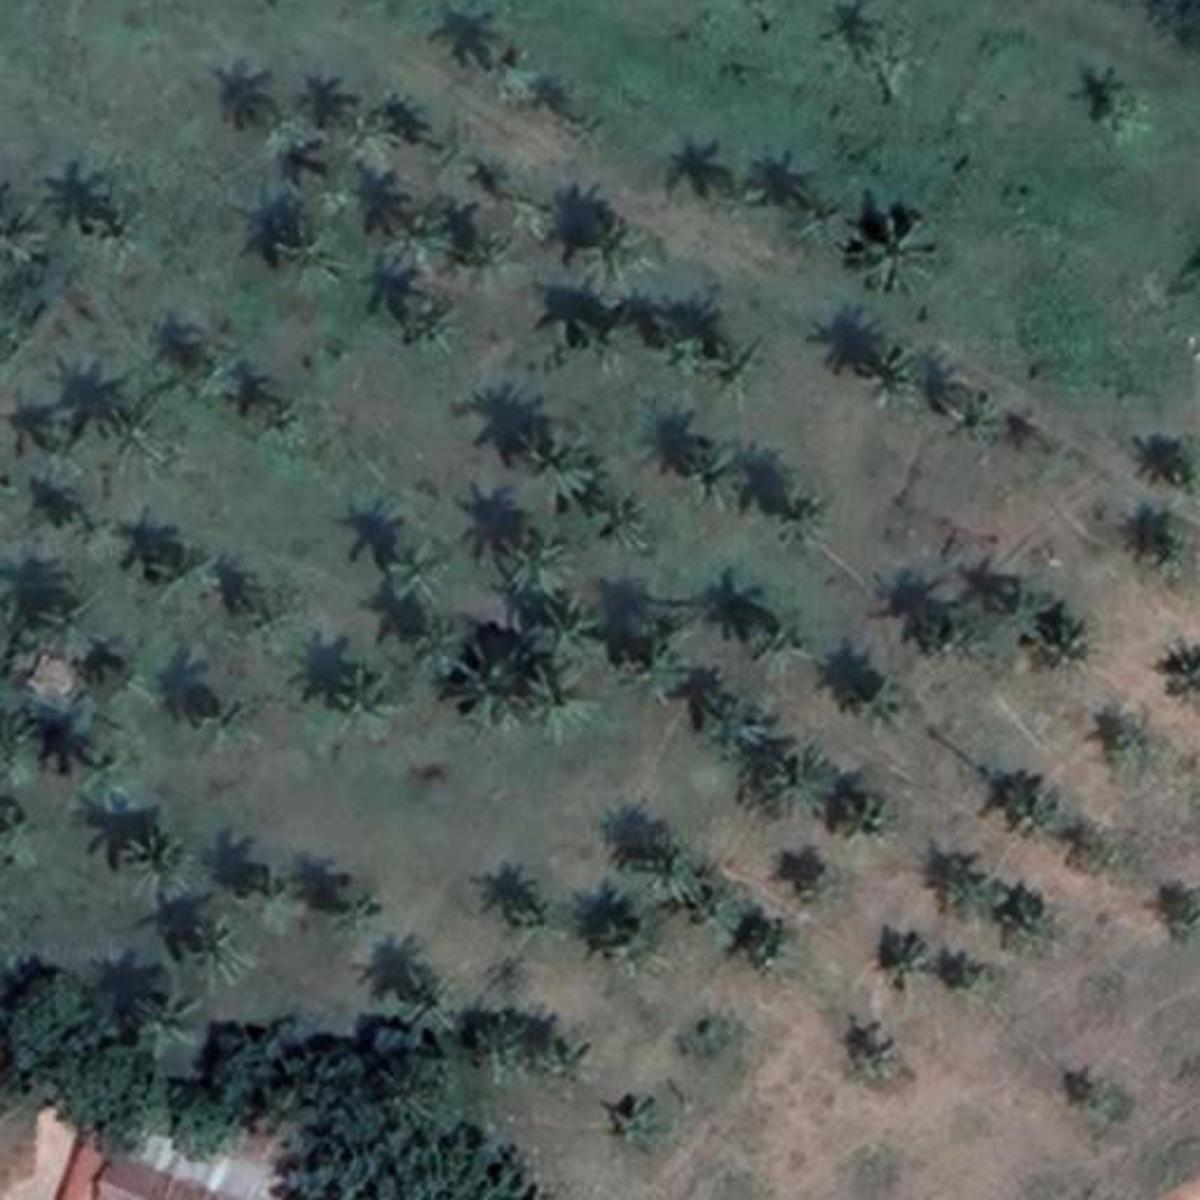coconut: (843, 205, 946, 304), (501, 419, 609, 505), (433, 632, 532, 726), (567, 205, 660, 292), (529, 578, 616, 665), (532, 653, 611, 745), (489, 529, 584, 602), (785, 178, 869, 255), (377, 205, 471, 274), (145, 555, 238, 623), (637, 834, 716, 914), (276, 205, 349, 290), (752, 749, 843, 816), (592, 902, 667, 984), (82, 195, 166, 264), (321, 673, 403, 742), (121, 832, 199, 904), (379, 538, 457, 611), (714, 327, 780, 412), (876, 909, 938, 998), (1108, 716, 1185, 787), (721, 902, 803, 965), (993, 766, 1066, 836), (192, 925, 271, 989), (32, 597, 105, 663), (595, 1089, 670, 1153), (400, 290, 468, 360), (131, 993, 210, 1054), (100, 410, 173, 475), (234, 881, 311, 942), (632, 632, 700, 700), (989, 878, 1057, 946), (682, 442, 749, 510), (447, 234, 529, 290), (745, 614, 815, 677), (185, 342, 248, 410), (778, 487, 848, 548), (949, 393, 1014, 459), (846, 1042, 921, 1099), (665, 321, 726, 389), (855, 23, 930, 79), (590, 496, 667, 549), (346, 107, 412, 166), (862, 344, 927, 403), (1040, 611, 1099, 677), (834, 785, 900, 843), (538, 1027, 600, 1089), (719, 686, 782, 745), (567, 309, 632, 367), (73, 745, 140, 801), (851, 675, 916, 731), (195, 698, 262, 752), (0, 203, 56, 264), (927, 855, 984, 911), (260, 400, 321, 451), (1143, 522, 1195, 578), (25, 421, 82, 471), (1099, 96, 1155, 142)
